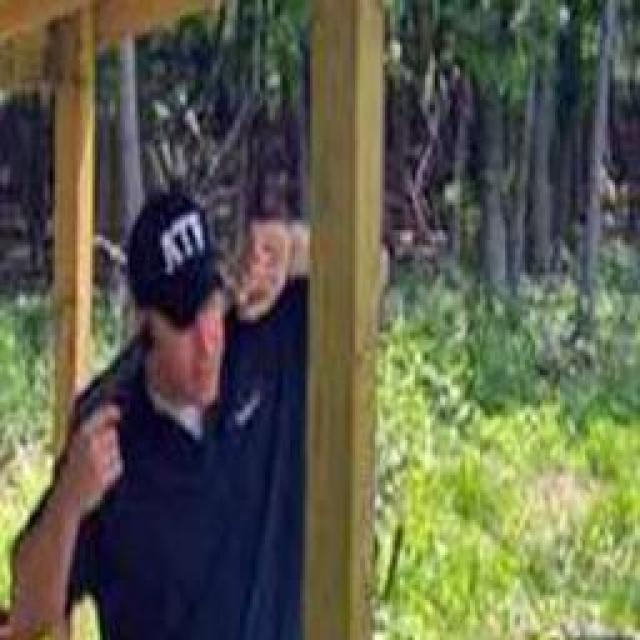Guns: (65, 319, 158, 461)
